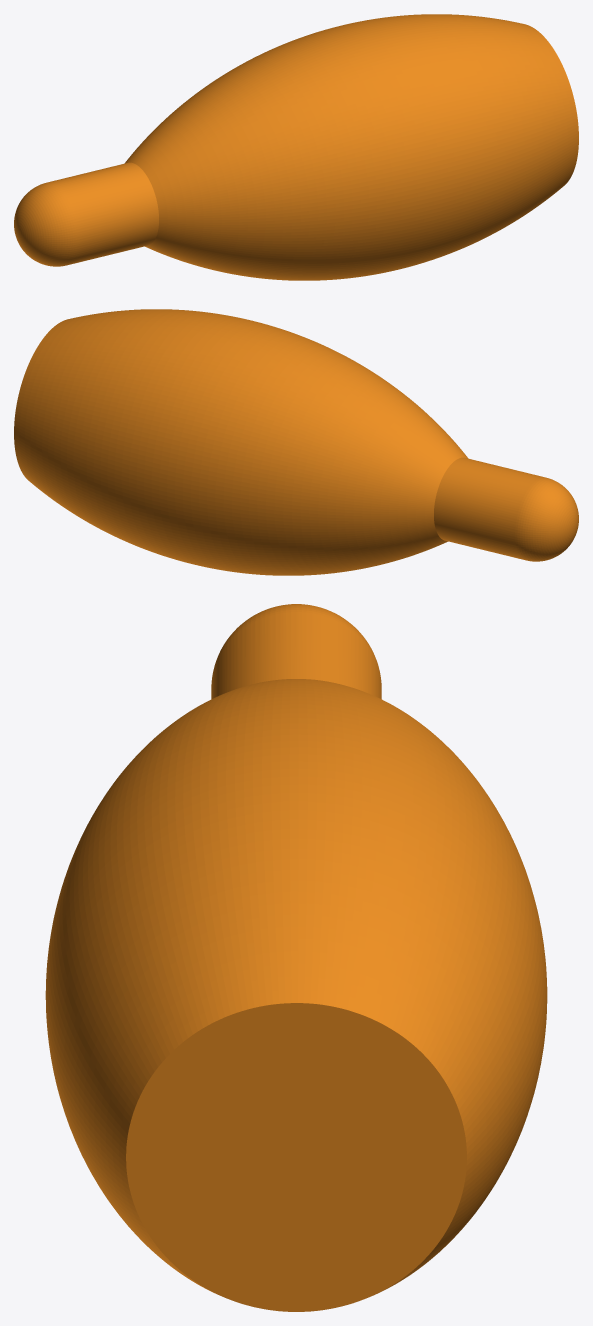
File: latheBowl.glb
3 renders of one model, top to bottom at view 1: azimuth 30°, elevation 25°; view 2: azimuth 150°, elevation 25°; view 3: azimuth 270°, elevation 25°, orthographic. The views are drawn at different scales.
Parts seen in each view (by area): view 1: S1_BOWL_PIN.stl; view 2: S1_BOWL_PIN.stl; view 3: S1_BOWL_PIN.stl.
Part boxes in pixels (x1=…): S1_BOWL_PIN.stl: x1=14, y1=14, x2=578, y2=280; S1_BOWL_PIN.stl: x1=14, y1=309, x2=578, y2=575; S1_BOWL_PIN.stl: x1=45, y1=604, x2=547, y2=1311.
Bounding box in the file's own units: 70 × 29.42 × 29.42.
